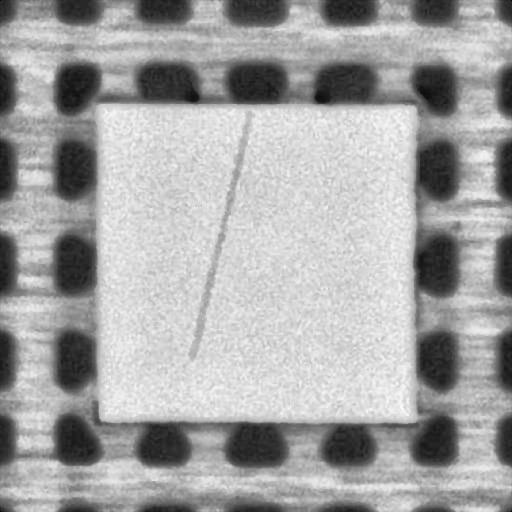DIE_CRACK: (190, 112, 248, 358)
